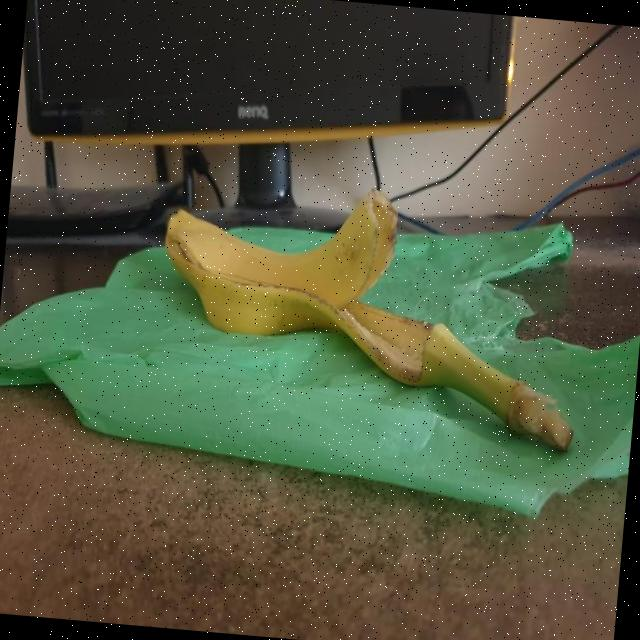banana-peel: (147, 168, 593, 454)
